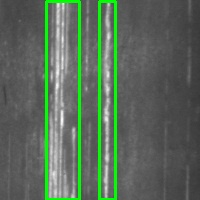scratches: (46, 1, 79, 199), (99, 1, 115, 199)
